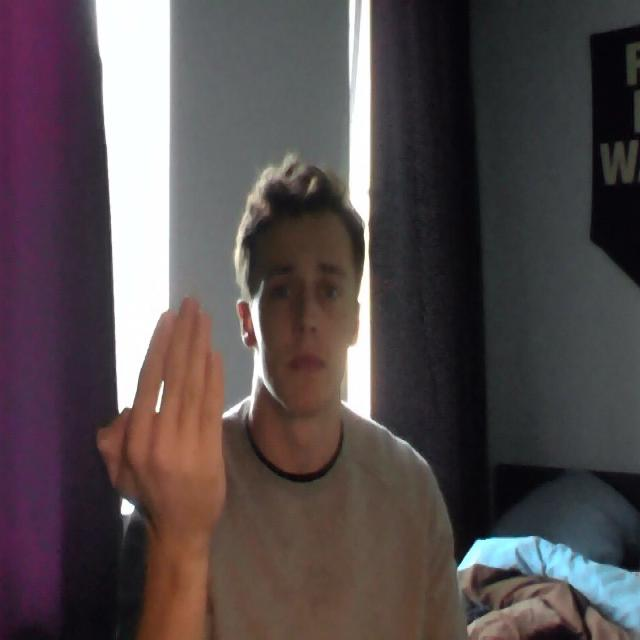forward: (92, 283, 238, 560)
